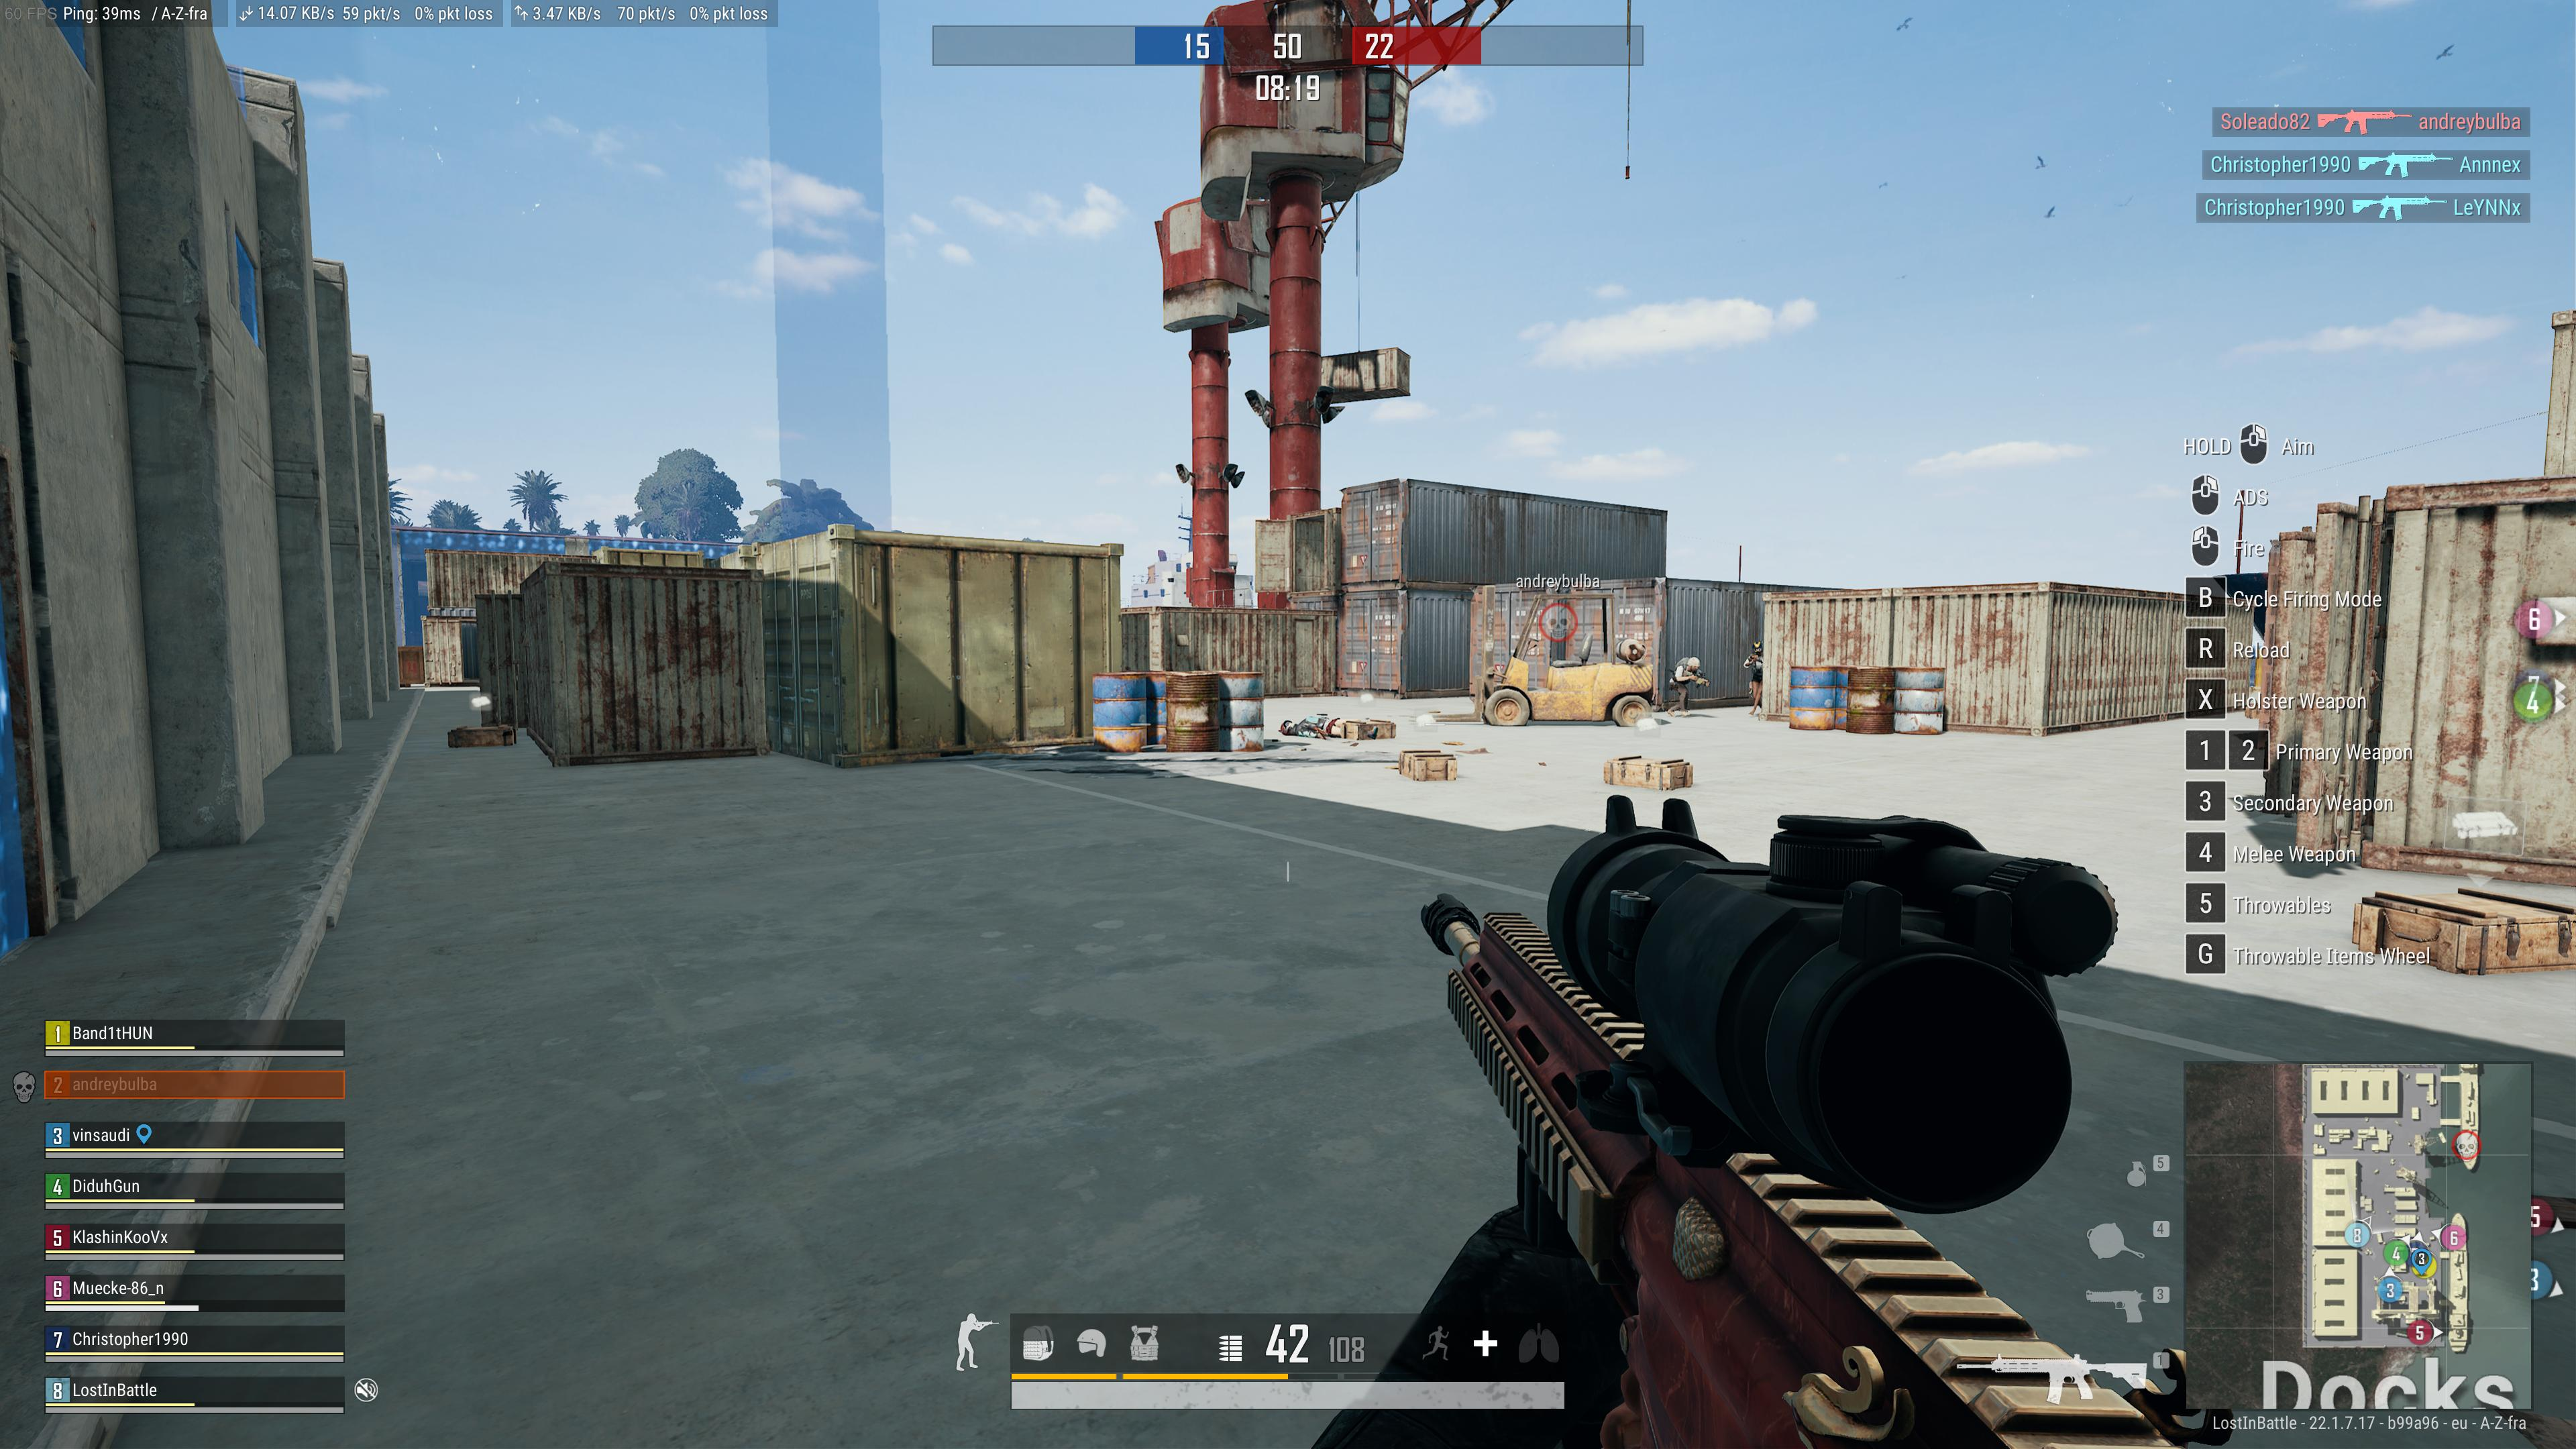enemy: (1667, 655, 1707, 718), (1741, 640, 1766, 715)
enemy_head: (1686, 655, 1700, 672), (1752, 640, 1762, 655)
